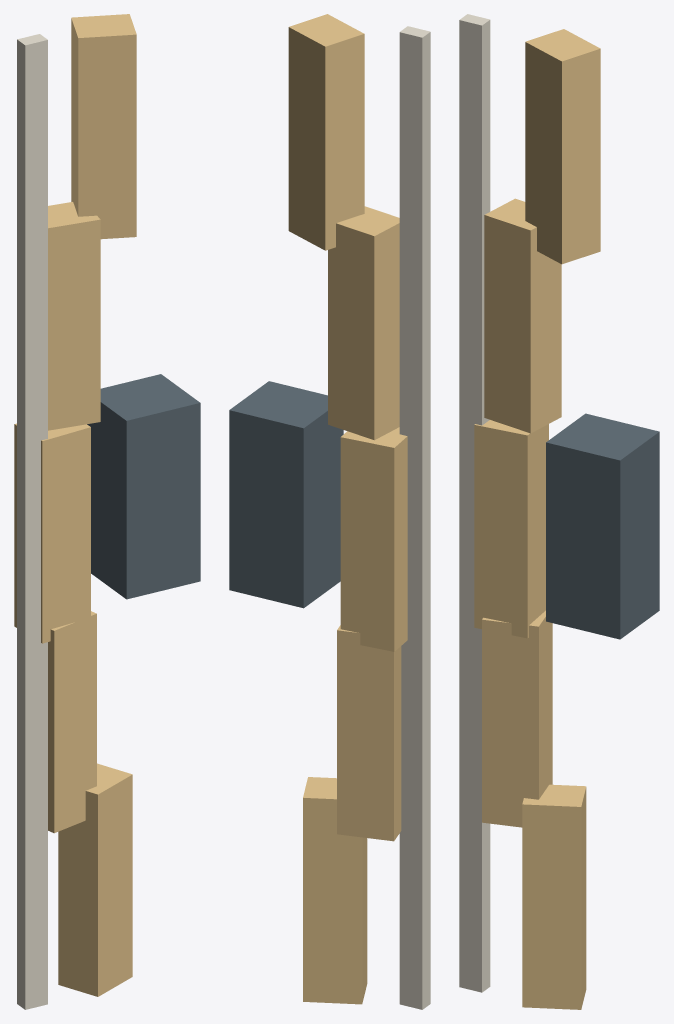
Rendered from la-bow-recurve-pov.glb.
The picture shows the model from 3 angles, left to right: view 1: azimuth 30°, elevation 25°; view 2: azimuth 150°, elevation 25°; view 3: azimuth 330°, elevation 25°; orthographic projection.
Visible parts, largest first — view 1: la-bow-recurve-pov; view 2: la-bow-recurve-pov; view 3: la-bow-recurve-pov.
Boxes of the visible parts, x1,y1,x2,y2 form: la-bow-recurve-pov: [14, 14, 200, 1009]; la-bow-recurve-pov: [229, 14, 430, 1009]; la-bow-recurve-pov: [459, 14, 659, 1009].
Bounding box in the file's own units: 0.295 × 1.62 × 0.12.
